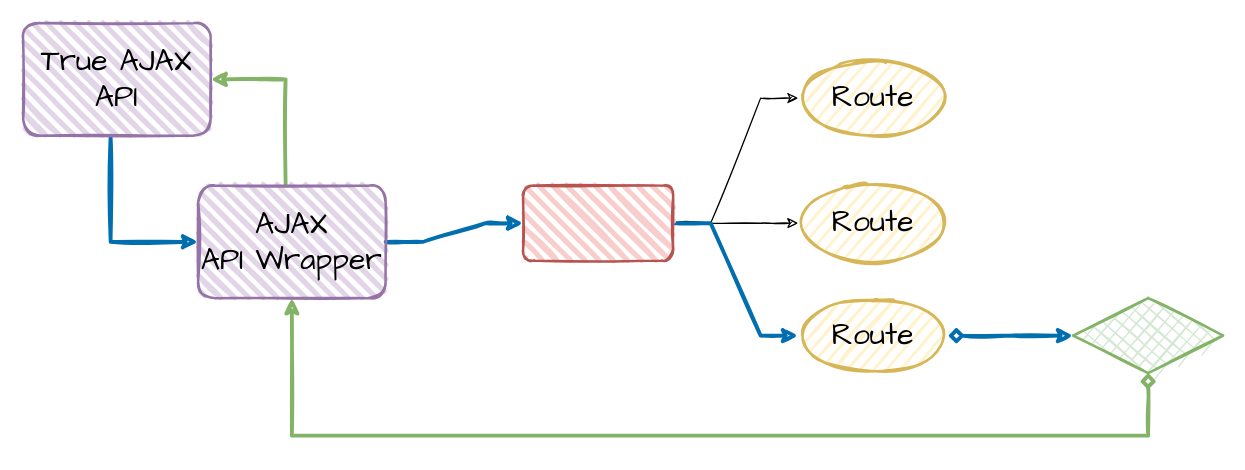
Some shapes in this 1245 by 470 pixel diagram are drawn without their labels. Each missing label, with the centre of its shape:
Main Callback: [1147,335]
Router: [597,222]
